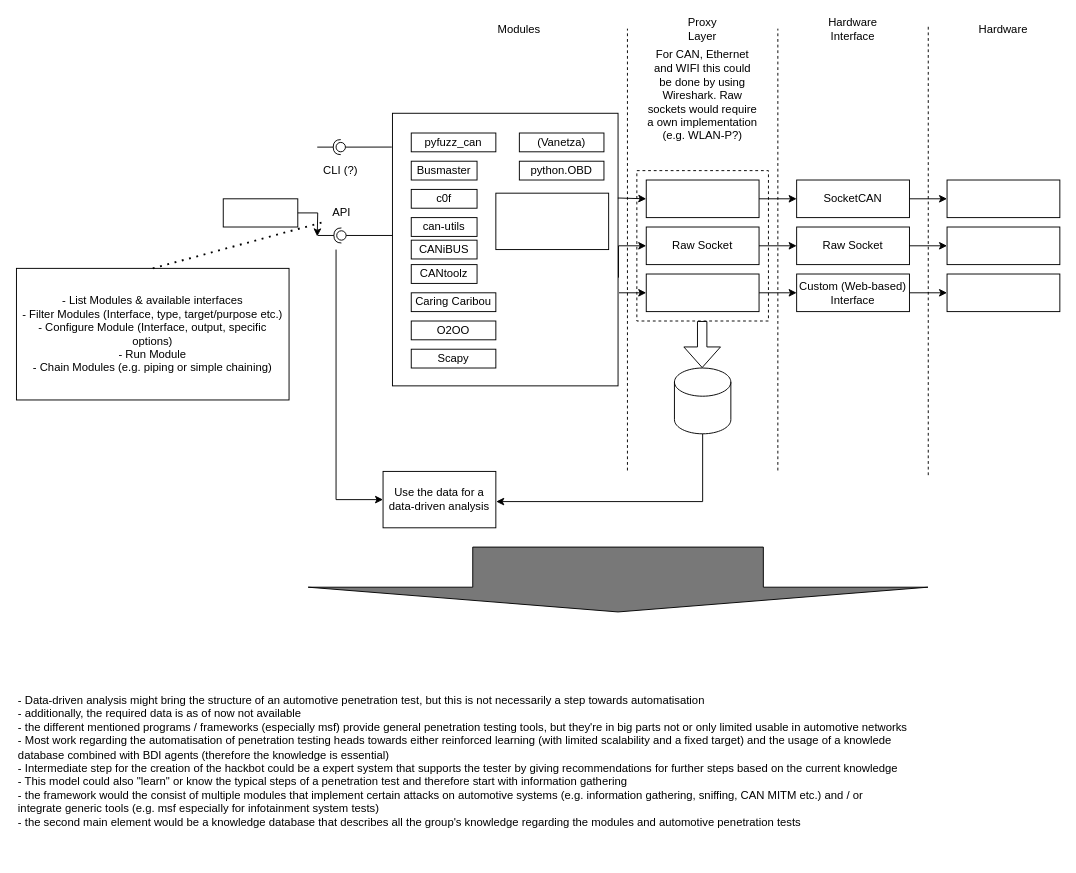
Image size: 1076x873. Some labels were removed from this diagram. Each missing label, with the centre of its shape:
"ath9k Wifi Card" goes at point 1003,245.
"EVAcharge, DevBoards" goes at point 1003,292.
"GUI" goes at point 260,212.
"MSF Modules" goes at point 552,221.
"PCAN" goes at point 1003,198.
"PCAP" goes at point 702,400.
"REST Interface" goes at point 702,292.
"virtual SocketCAN" goes at point 702,198.
